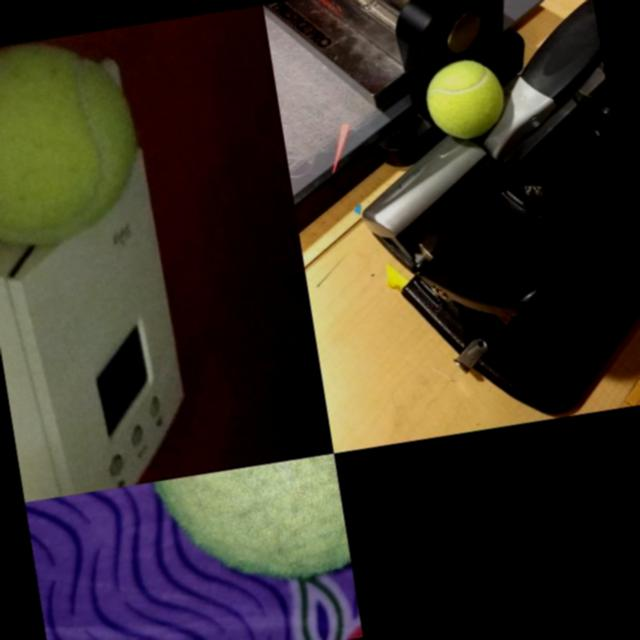tennis-ball: (0, 27, 154, 254), (150, 454, 352, 600), (420, 53, 510, 146)
